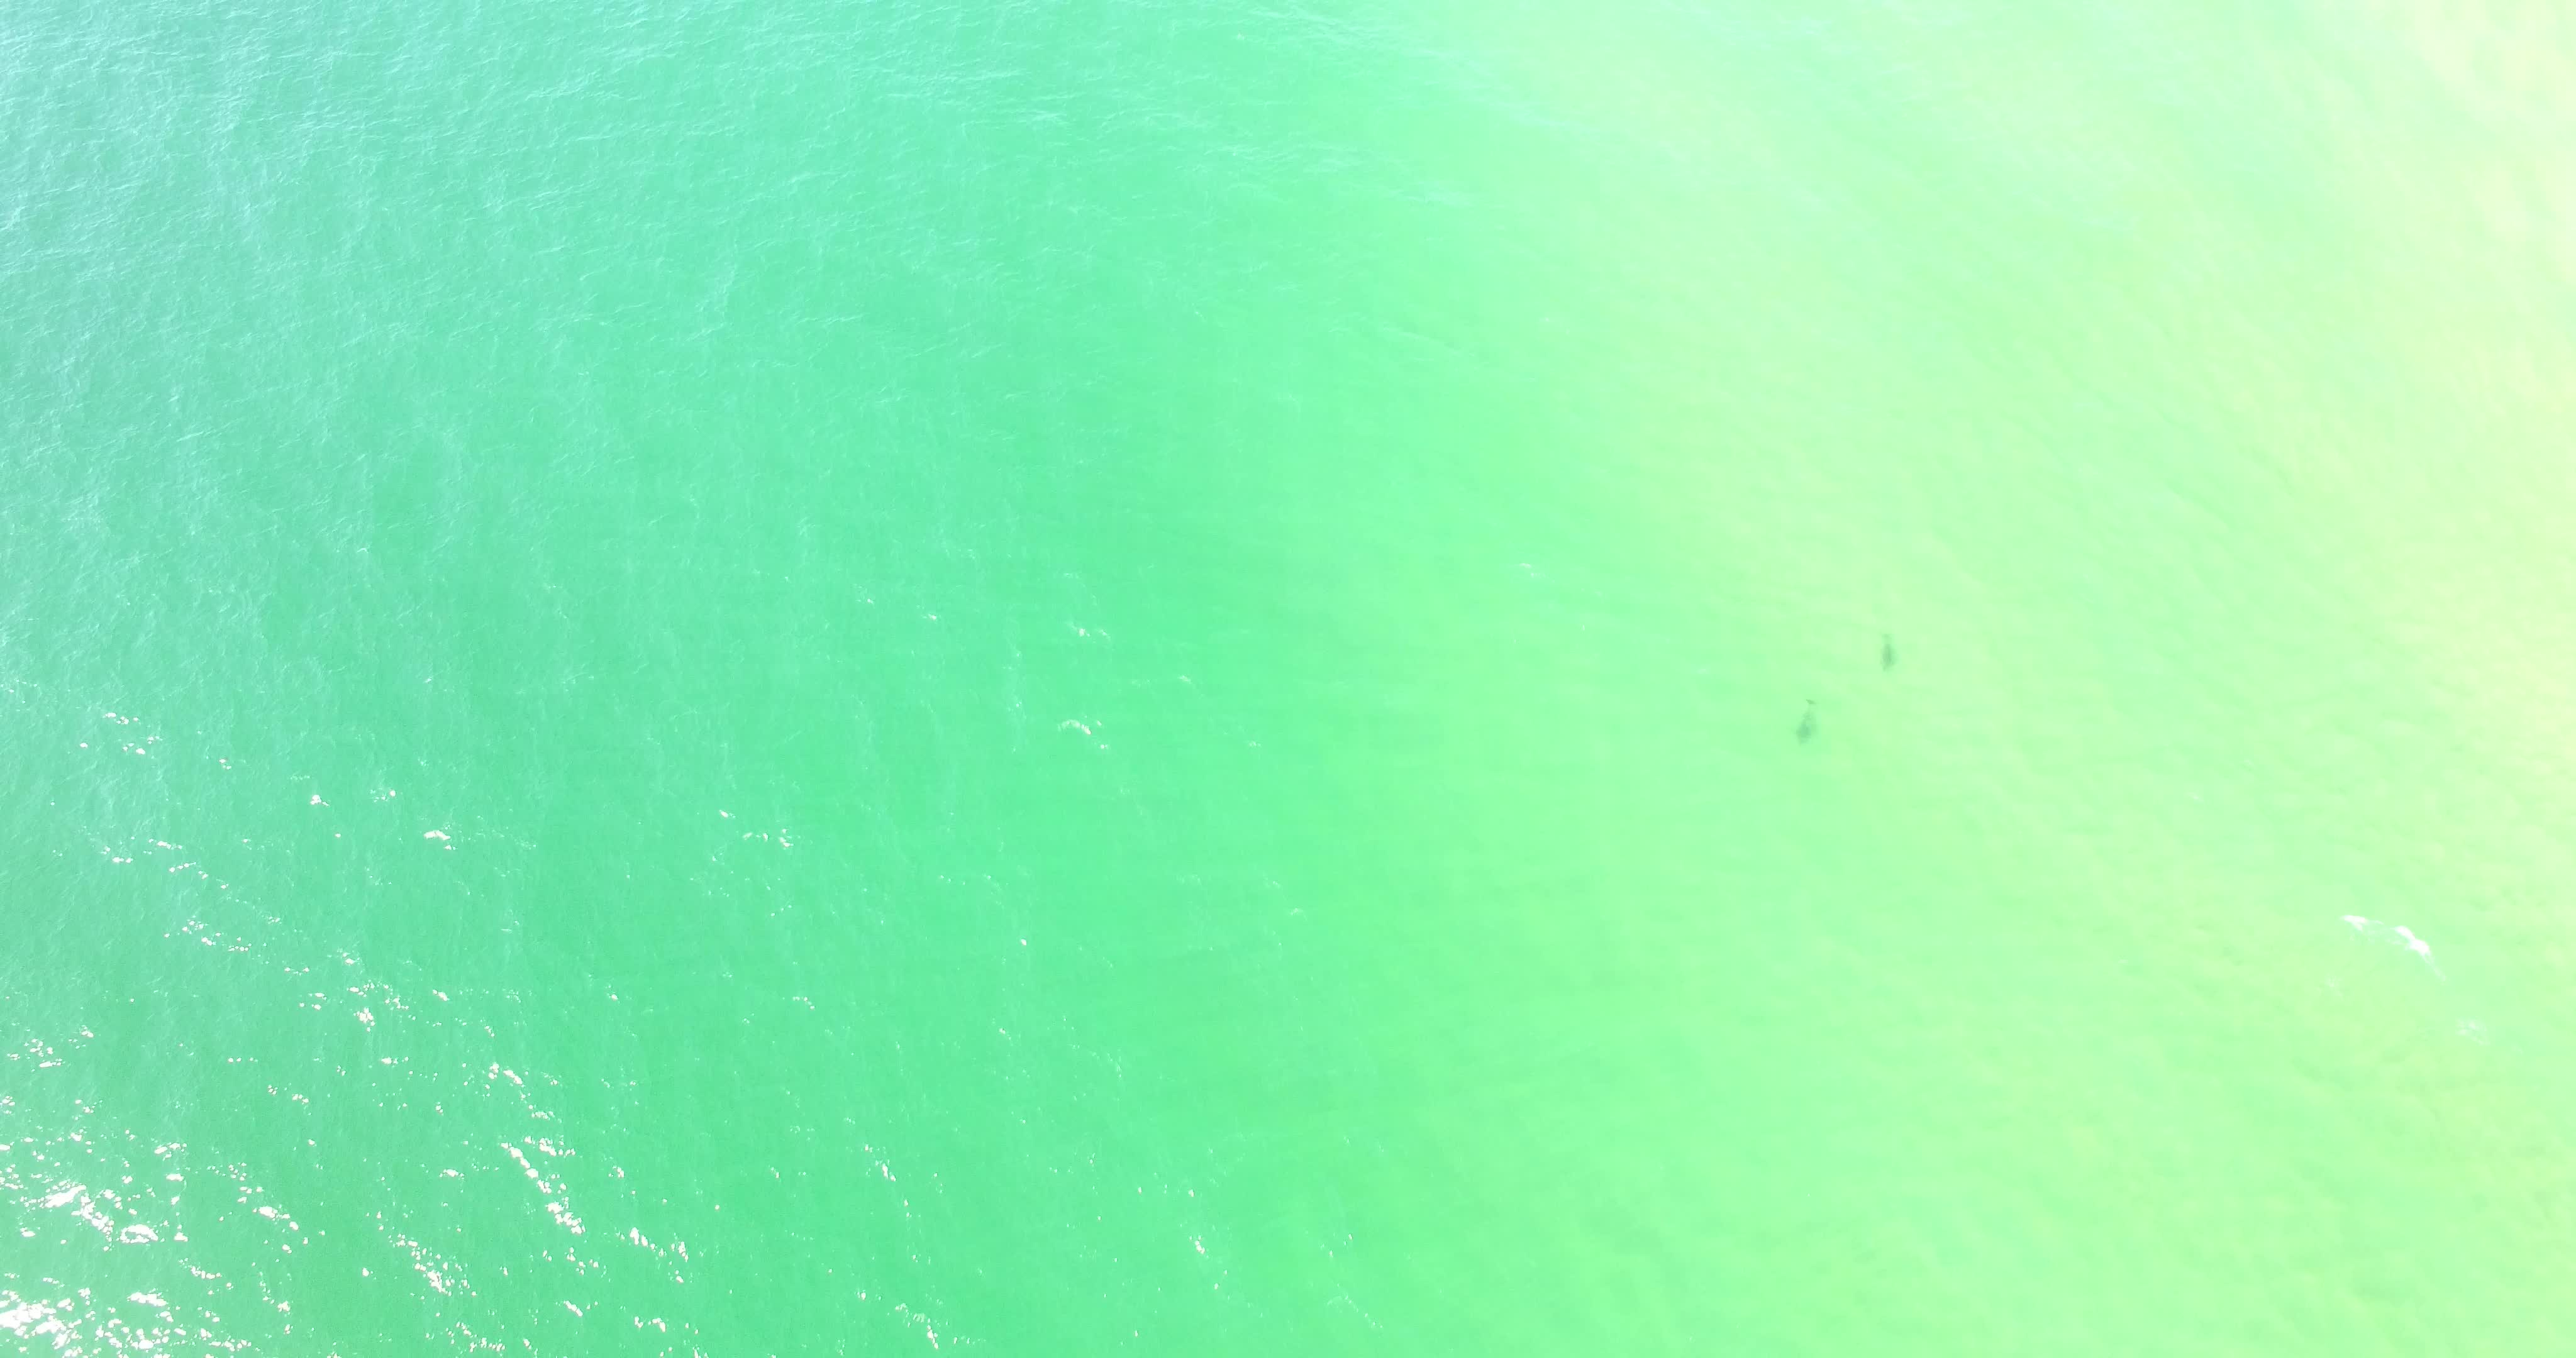dolphin: (1768, 678, 1831, 748), (1857, 620, 1915, 687)
